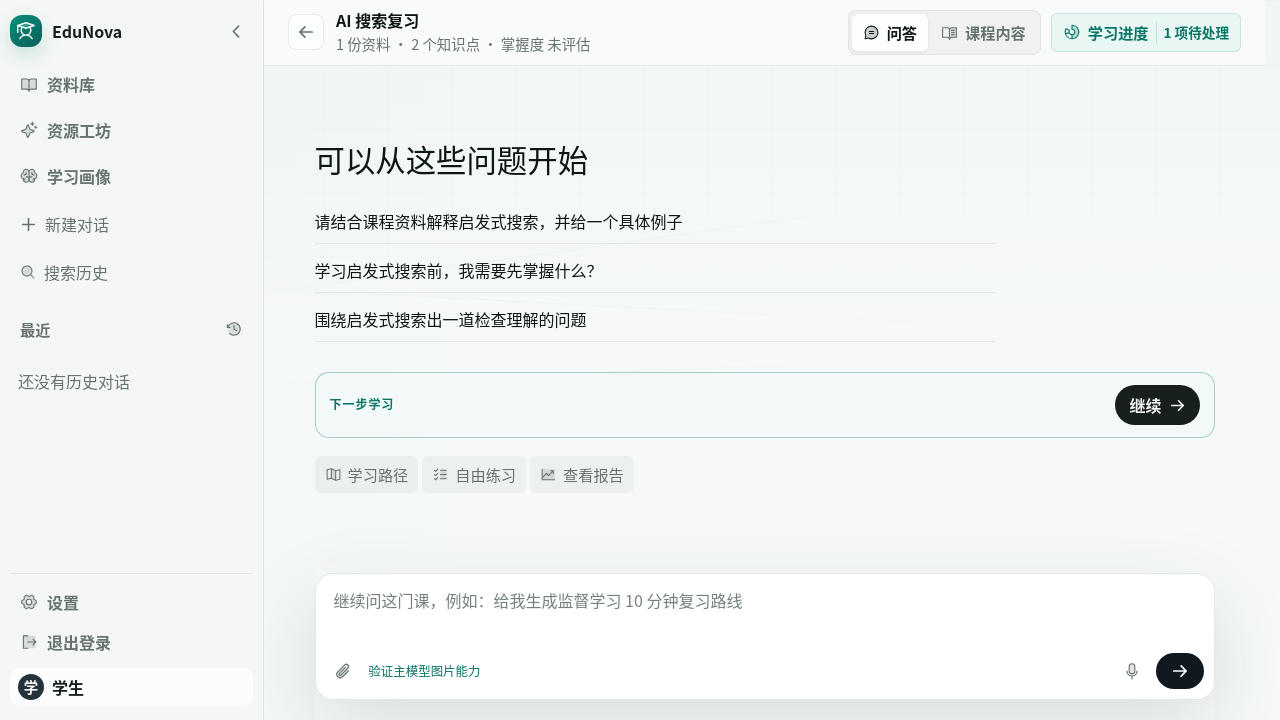
CourseSpacePage course tutor sessions › renders pending course weakness review items from learning state
Click the button "学习进度 1 项待处理": [1146, 32] box [1051, 13, 1241, 52]
(page scrolled)
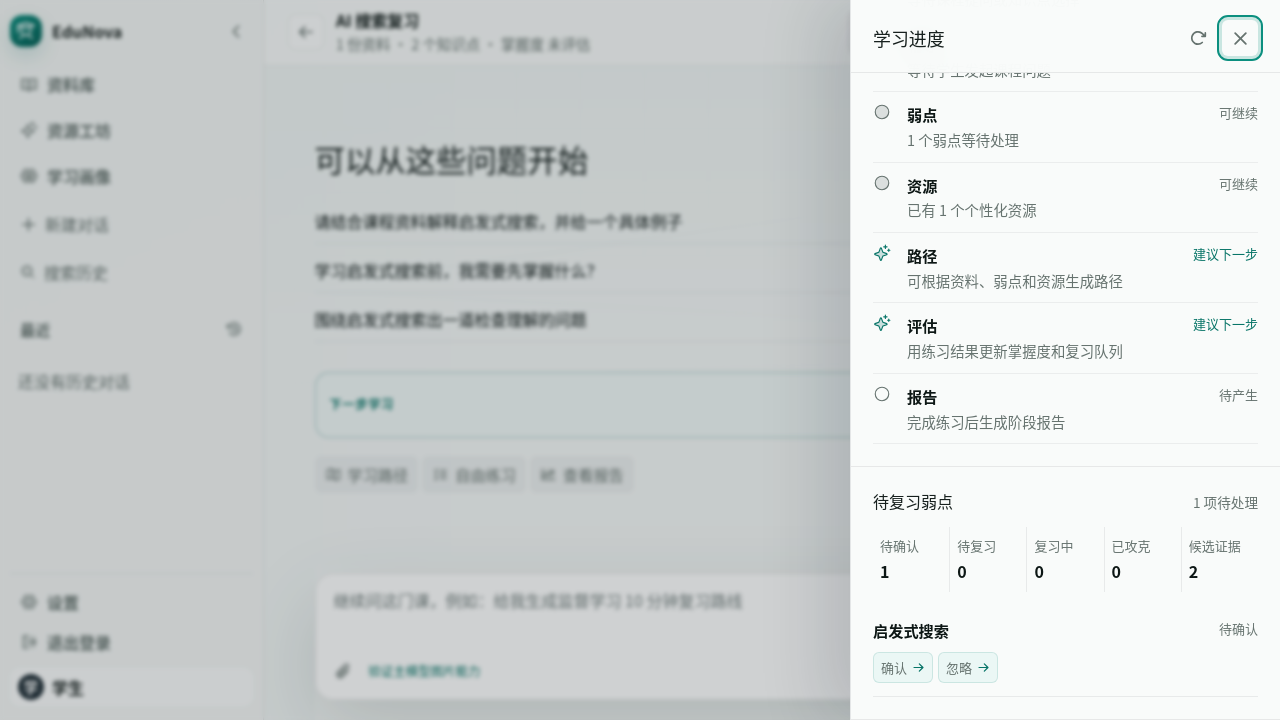
Check: the element "待复习弱点" reads "待复习弱点 1 项待处理 待确认 1 待复习 0 复习中 0 已攻克 0 候选证据 2 启发式搜索 待确认 确认 忽略", box [851, 467, 1279, 719]
Check: the text "启发式搜索" is shown, box [873, 619, 949, 641]
